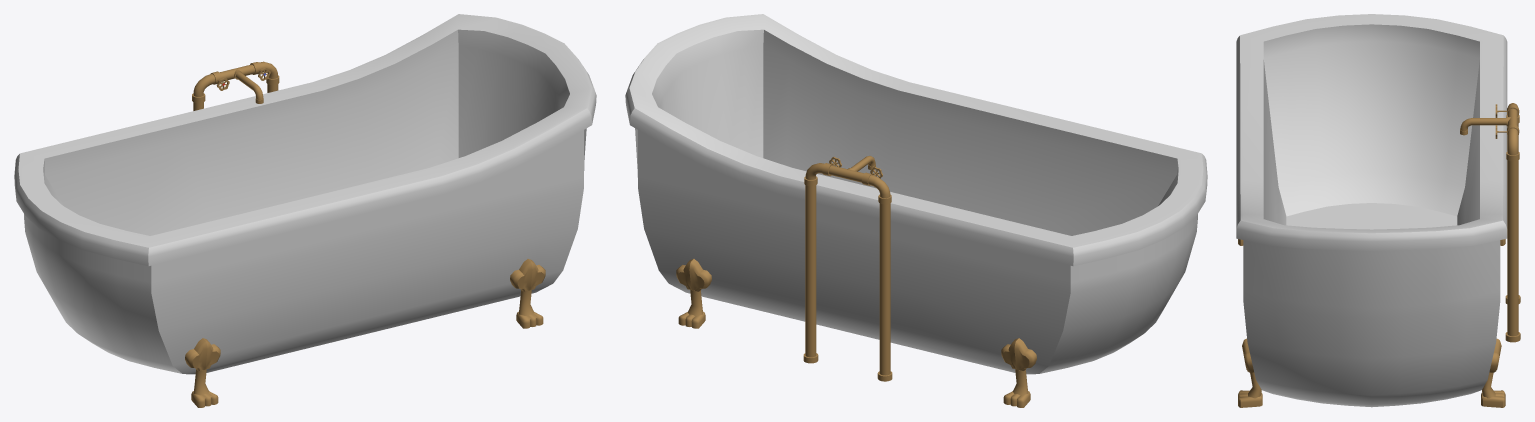
Rendered from clawFootTub.fbx.
The picture shows the model from 3 angles, left to right: view 1: azimuth 30°, elevation 25°; view 2: azimuth 150°, elevation 25°; view 3: azimuth 270°, elevation 25°; orthographic projection. The views are drawn at different scales.
Parts seen in each view (by area): view 1: Claw Foot Tub; view 2: Claw Foot Tub; view 3: Claw Foot Tub.
Boxes of the visible parts, box(x1,y1,x2,y2) form: Claw Foot Tub: box(14, 14, 596, 407); Claw Foot Tub: box(625, 14, 1207, 407); Claw Foot Tub: box(1236, 14, 1520, 407).
Bounding box in the file's own units: 228 × 87.46 × 104.
